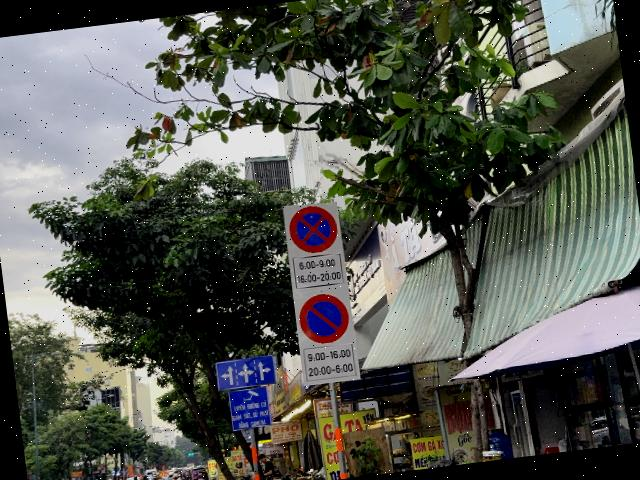cam-do-xe: (296, 292, 352, 346)
cam-dung-va-do-xe: (286, 202, 340, 256)
